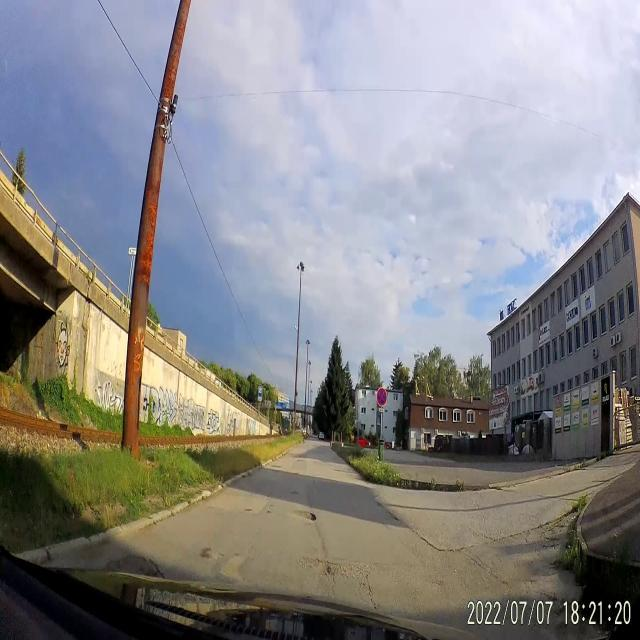Pothole: (100, 546, 164, 578), (300, 553, 372, 580), (540, 520, 566, 552), (294, 503, 320, 529), (296, 456, 308, 464), (244, 506, 254, 515), (290, 488, 301, 496), (270, 463, 281, 469)
